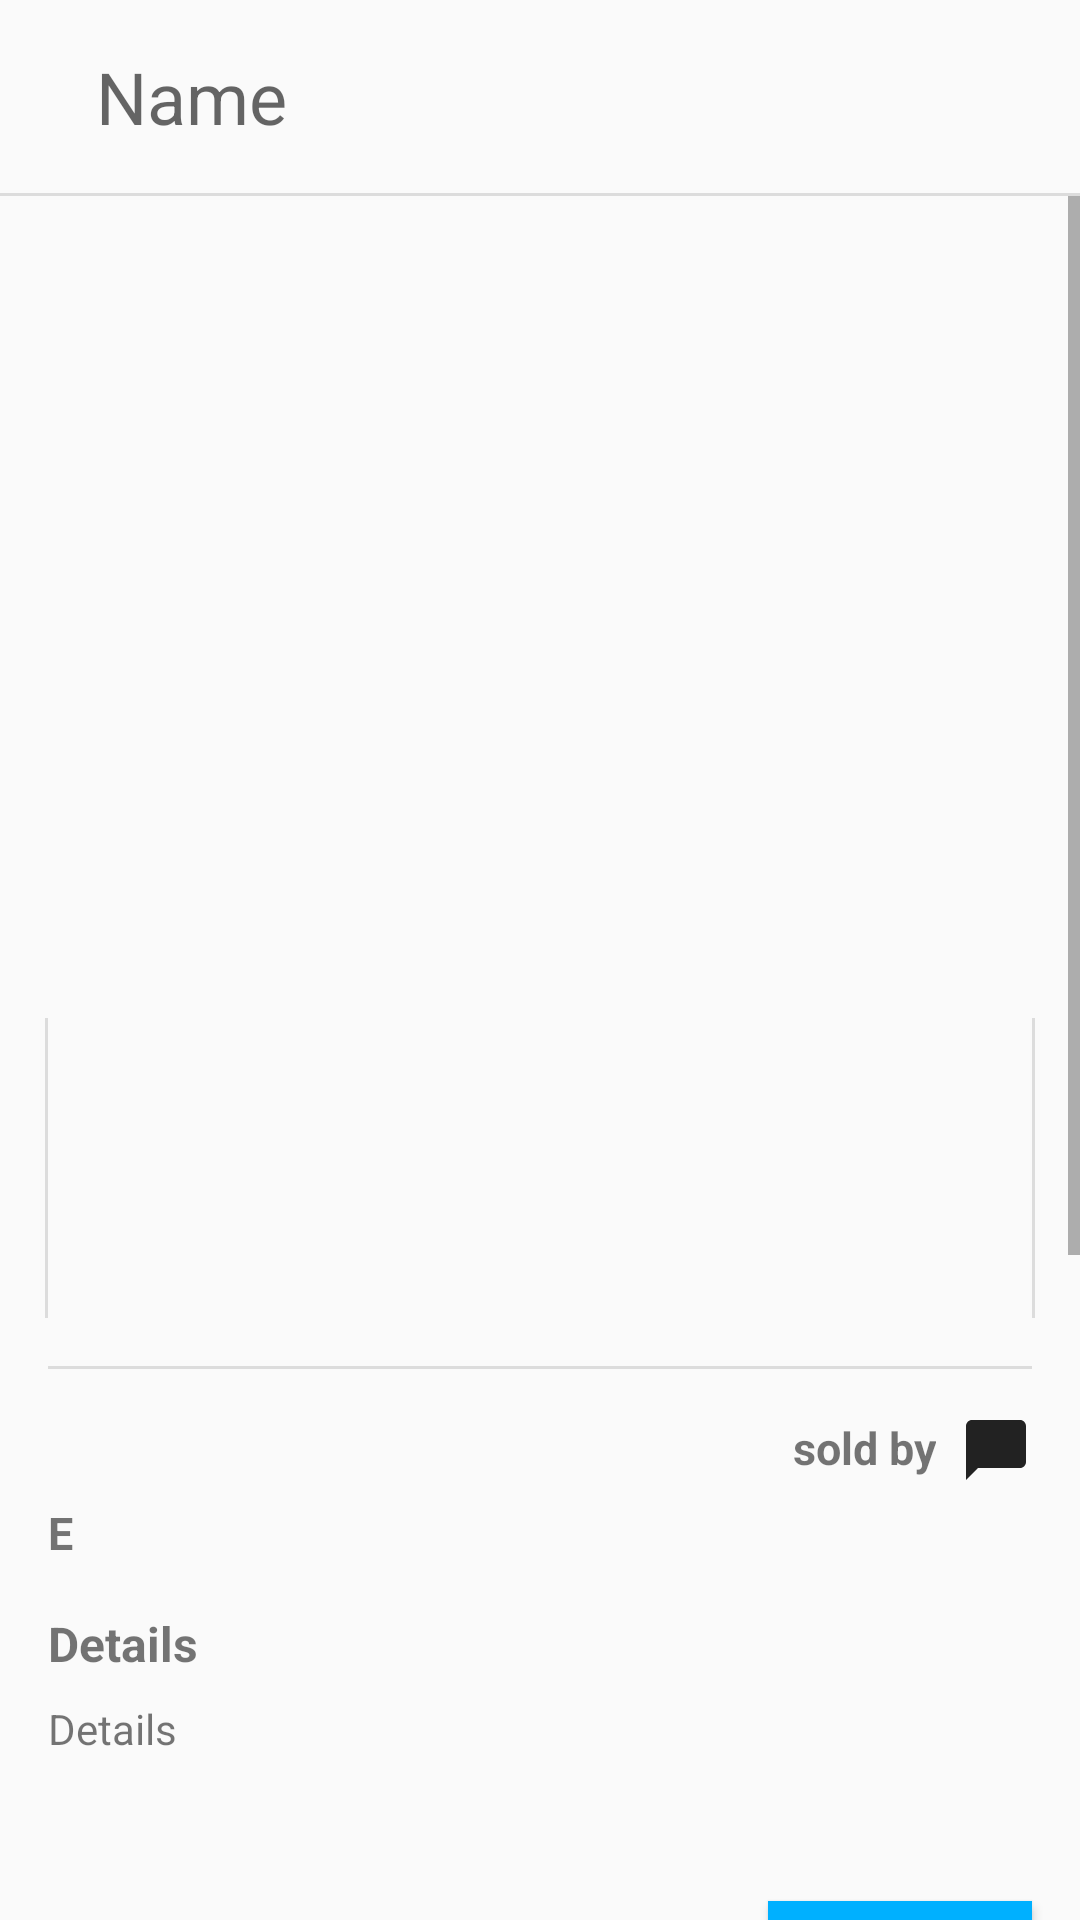

Screen size 1080*1920. Icon name, then its box in pixels as (x1, y1, x2, y2):
chat: (966, 1420, 1026, 1480)
